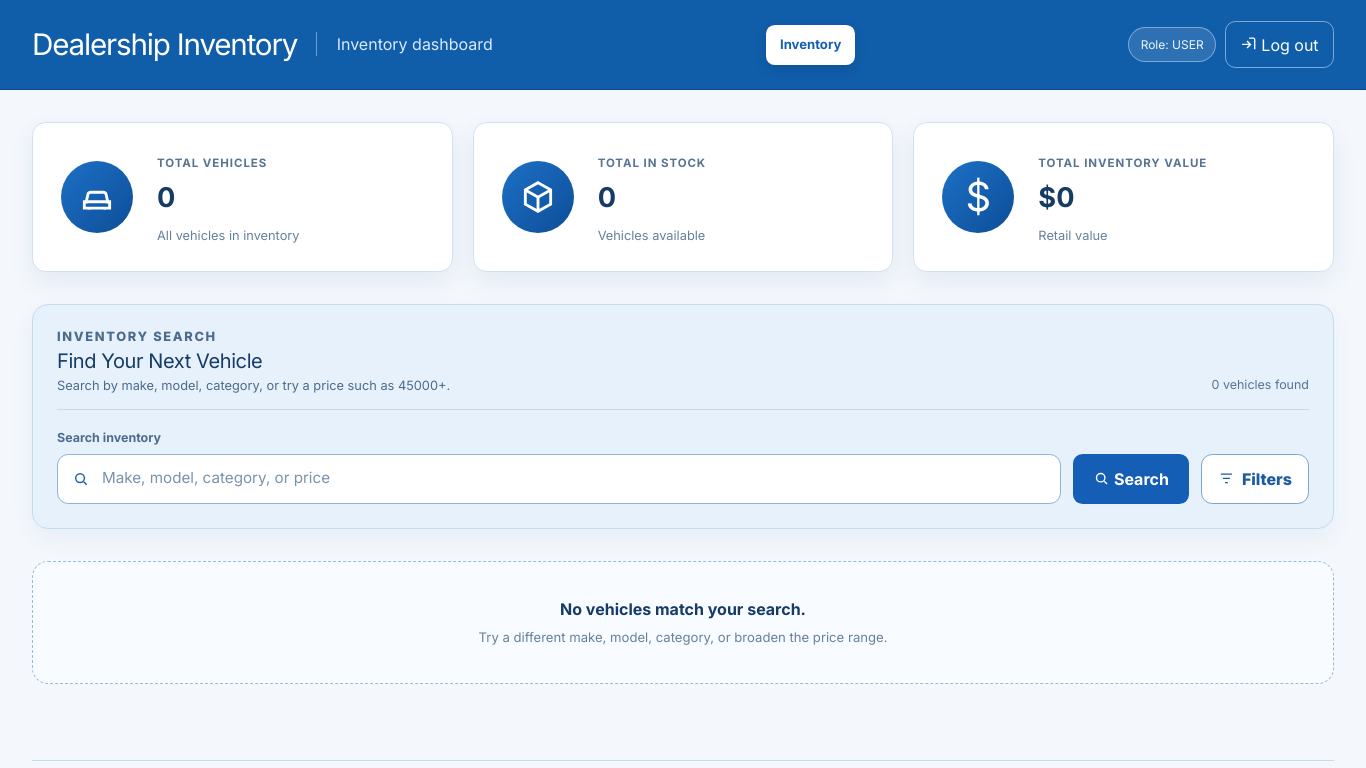
Scenario: App › shows the current role and logs out an authenticated user
expect the text "Role: USER" is shown: met, box 1128,27 -> 1216,62
expect the navigation bar named "primary navigation" is shown: met, box 766,24 -> 855,64
Click the button "Log out" at coordinates (1279, 44), box 1225,21 -> 1334,68
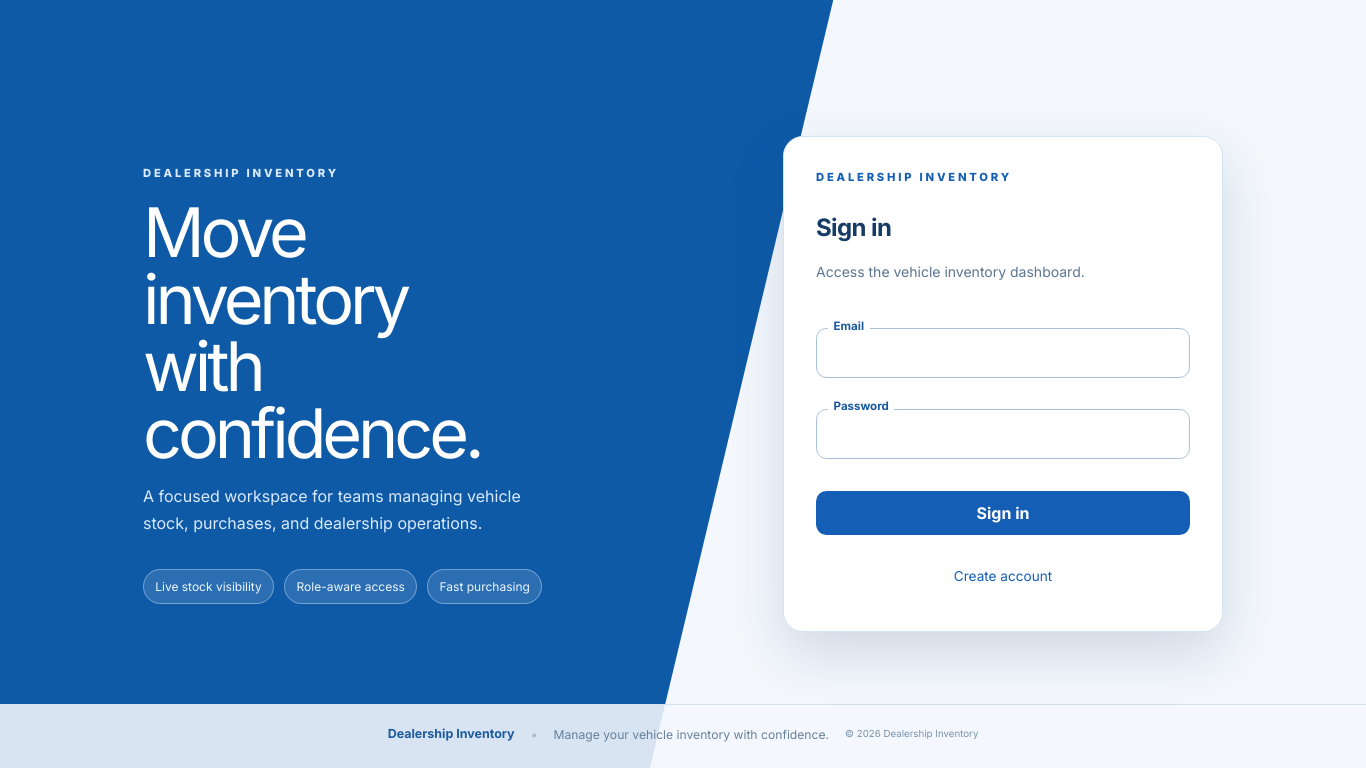
expect the heading "Sign in" is shown: met, box 816,213 -> 891,242
